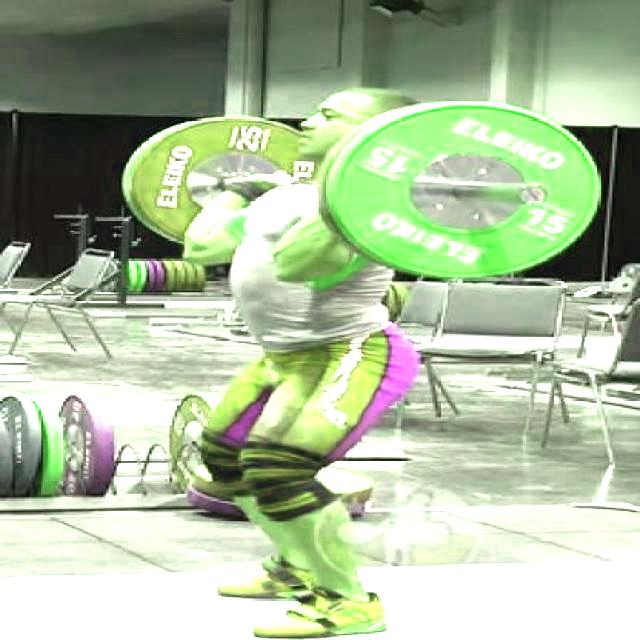barbell: (305, 98, 622, 286)
